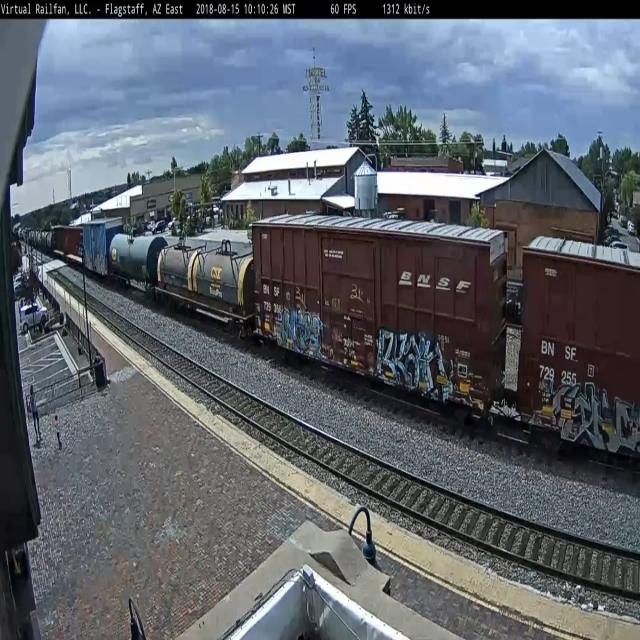boxcar: (245, 202, 514, 440), (512, 227, 640, 478)
tank: (191, 245, 254, 317), (156, 240, 196, 297)
